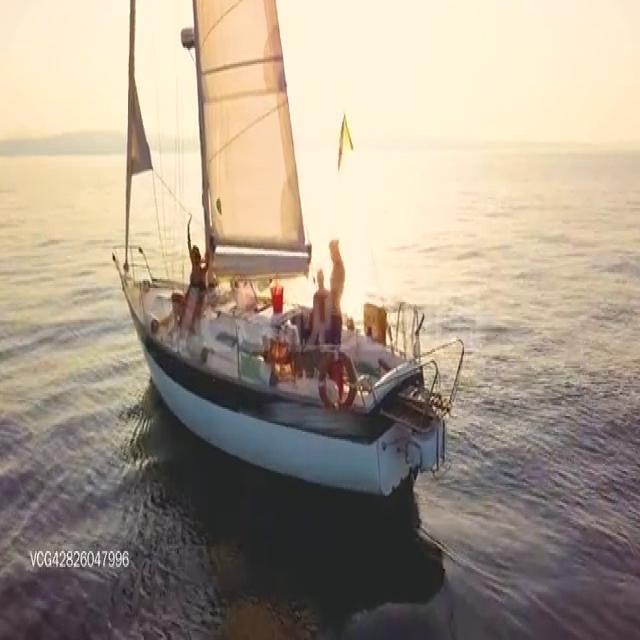sailboat: (102, 0, 464, 499)
